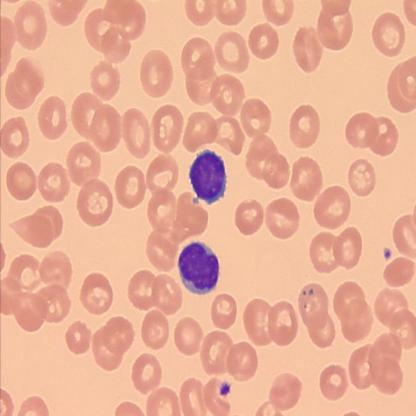Lymphocyte: (177, 240, 221, 296), (189, 148, 227, 204)
